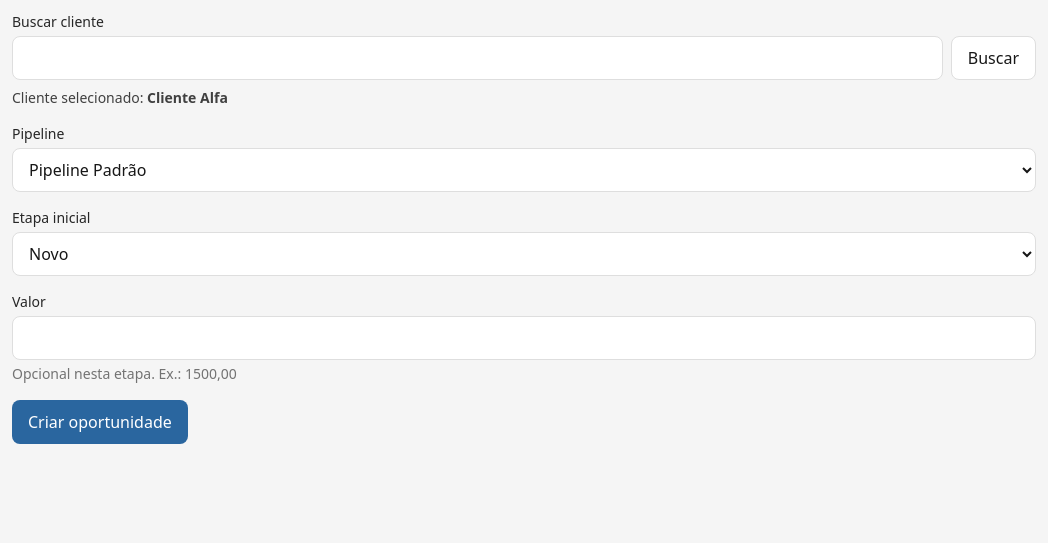
Test: OpportunityForm › erro da API (ex.: lead já tem oportunidade) e 403 são exibidos
expect the dropdown labelled "Etapa inicial" is shown: met, box [12, 232, 1036, 276]
What coordinates should you click on to do the following:
click the button "Criar oportunidade"
I would click on:
 (100, 422)
Its box is [12, 400, 188, 444].
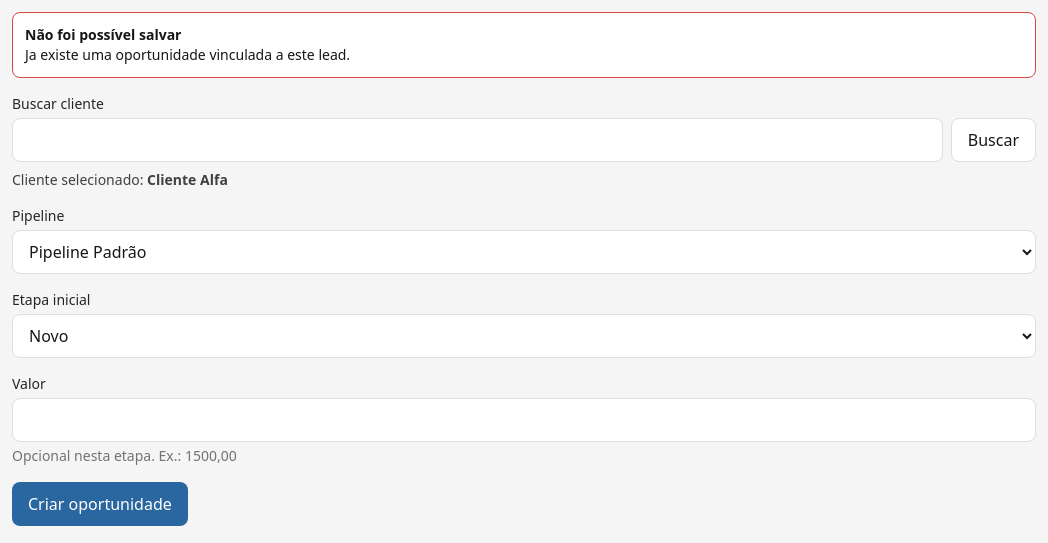
expect the text "Ja existe uma oportunidade vinculada a este lead." is shown: met, box [25, 45, 350, 64]
What coordinates should you click on to do the following:
click the button "Criar oportunidade"
I would click on:
 (100, 504)
Its box is [12, 482, 188, 526].
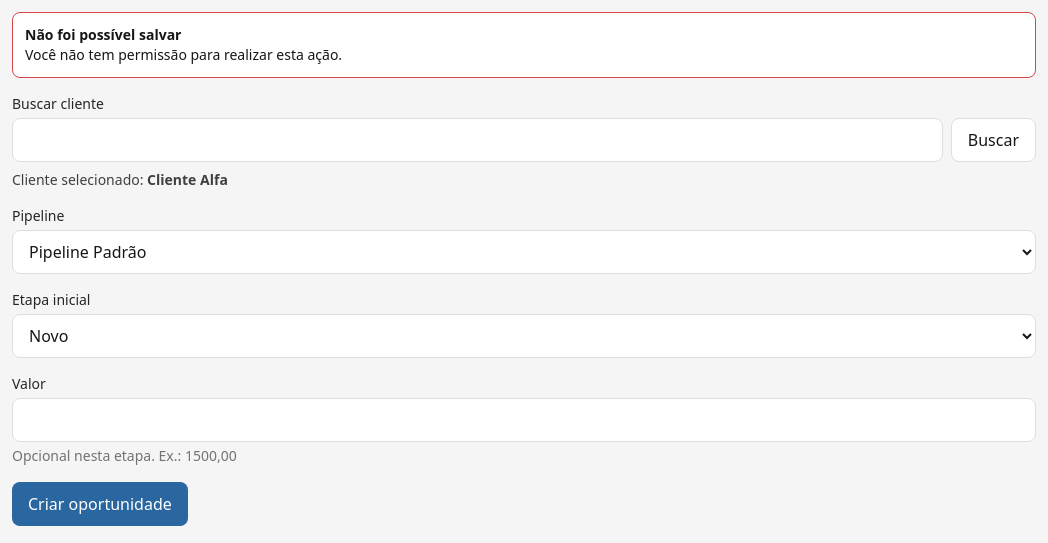
expect the text "Você não tem permissão para realizar esta ação." is shown: met, box [25, 45, 342, 64]
